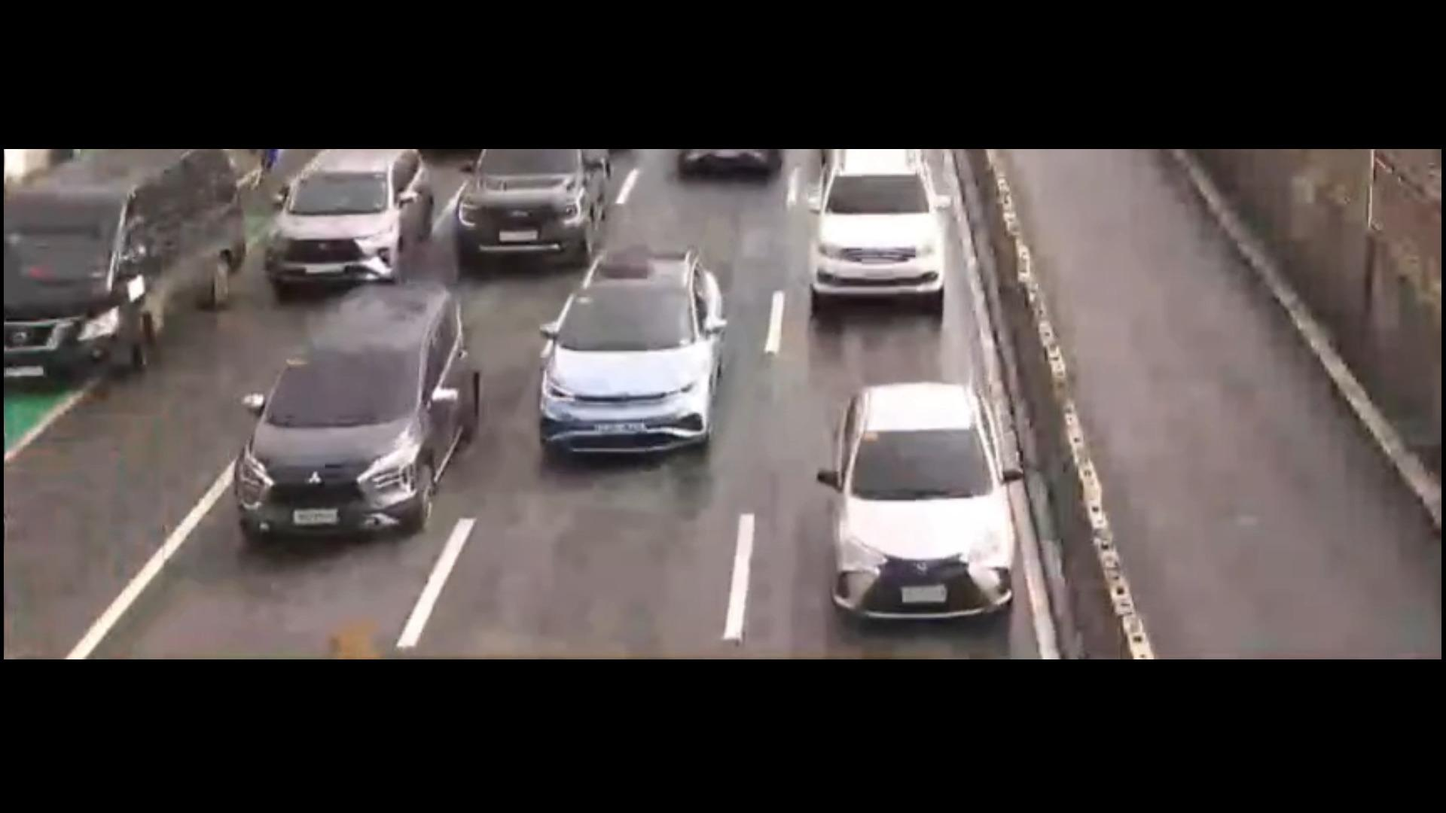SUV: (210, 273, 484, 556), (793, 371, 1040, 630), (528, 247, 744, 452), (784, 150, 953, 316), (256, 151, 437, 298), (445, 142, 609, 258)
Van: (0, 128, 258, 395)
